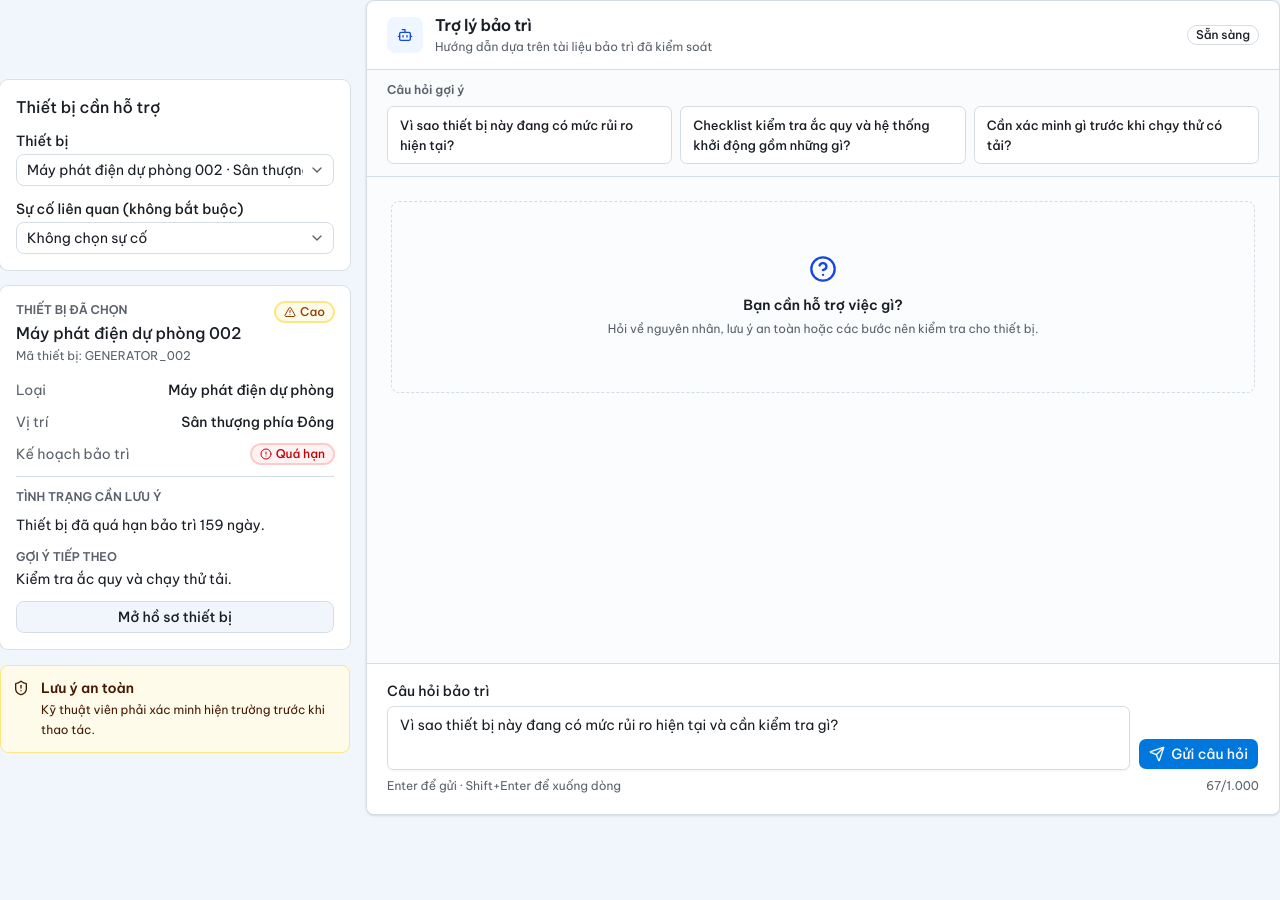
live Copilot workspace › renders an asset mismatch as a safe confirmation state
Replace the text in the text box labelled "Câu hỏi bảo trì" with "Máy bơm nước bị rung cần kiểm tra gì?" at (759, 738), box 387,706 -> 1130,770
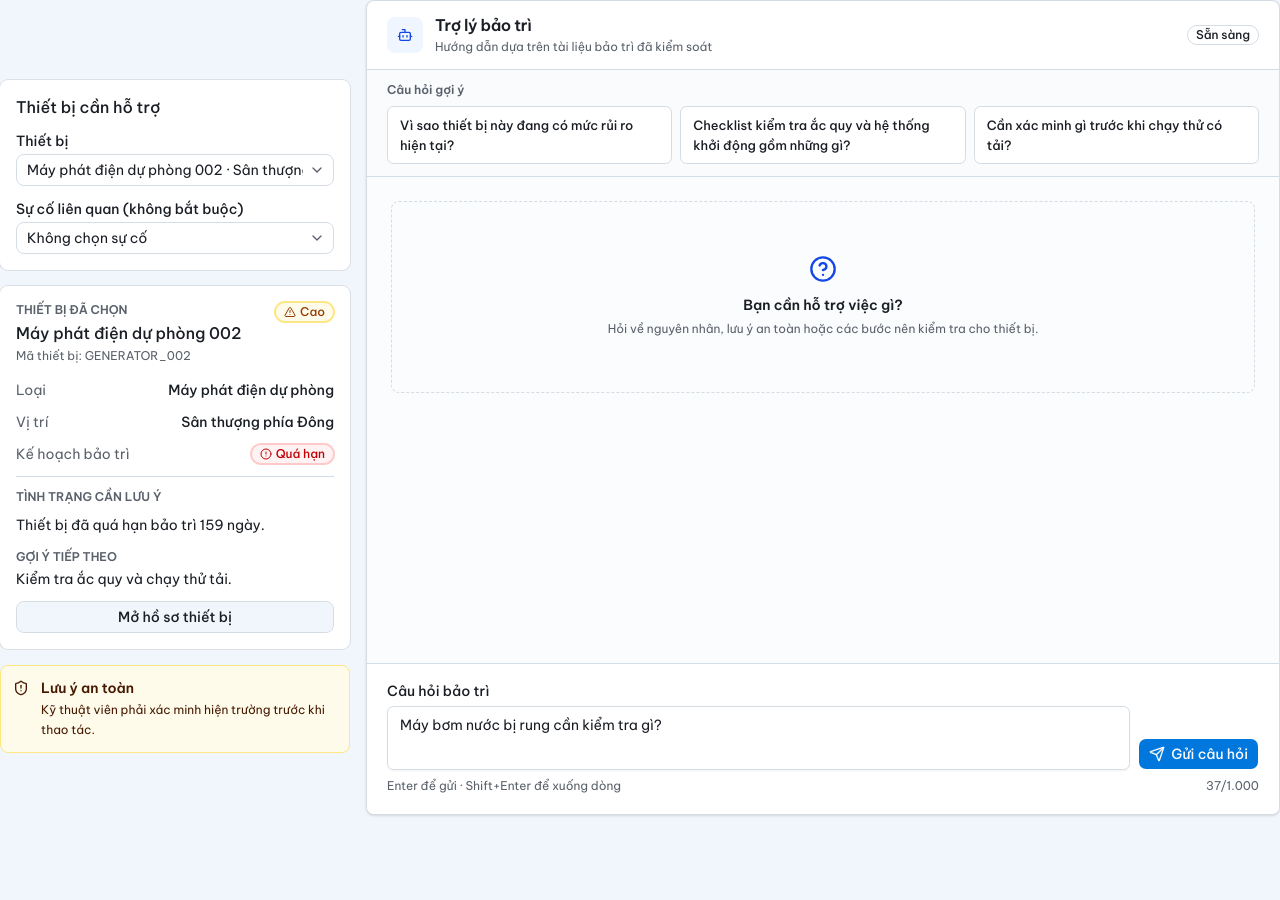
Press Enter in the text box labelled "Câu hỏi bảo trì", box 387,706 -> 1130,770
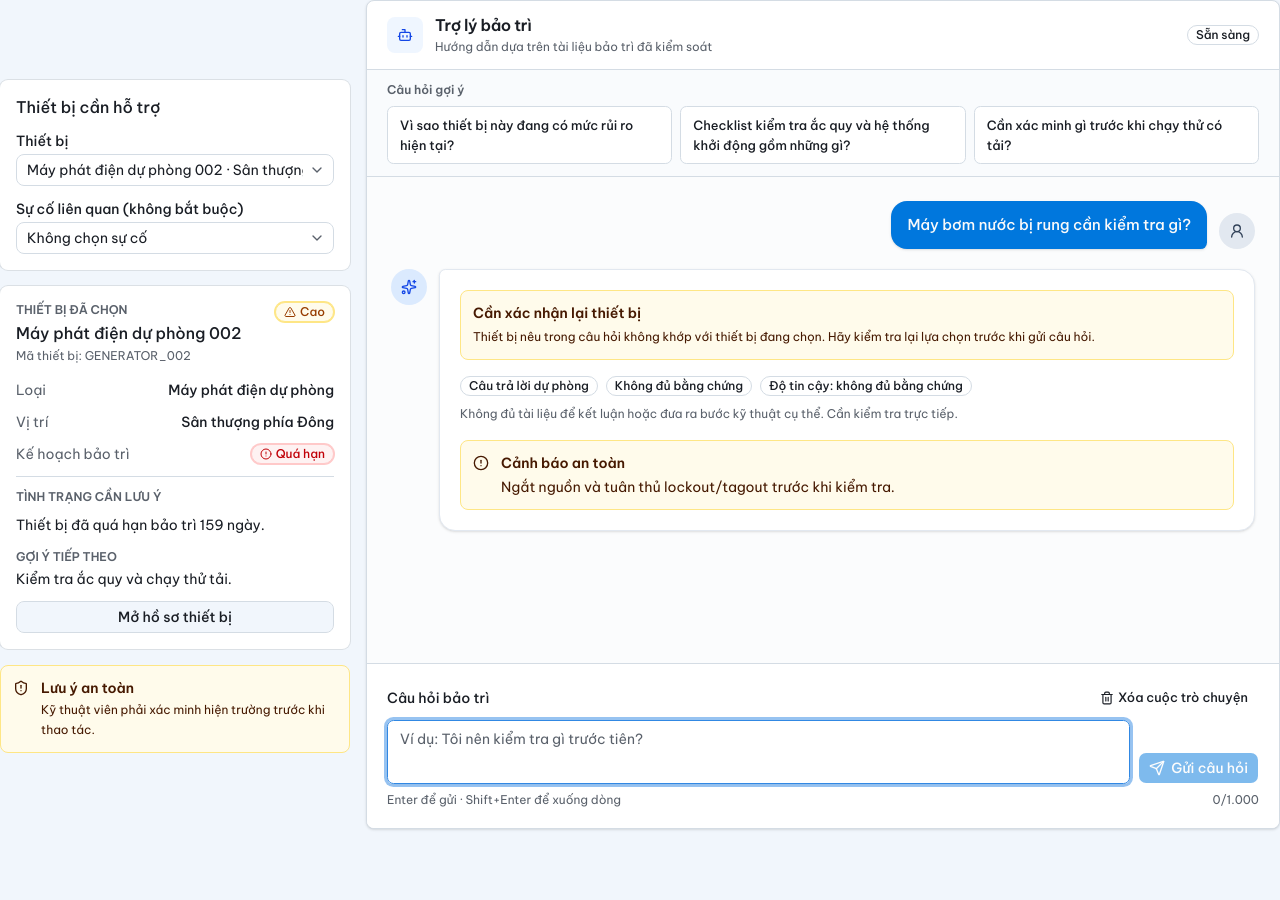
Now the text "Cần xác nhận lại thiết bị" is shown, box 473,304 -> 641,322
Now the text "Hãy kiểm tra lại lựa chọn" is shown, box 473,329 -> 1095,344
Now the text "Câu trả lời dự phòng" is shown, box 460,376 -> 598,396
